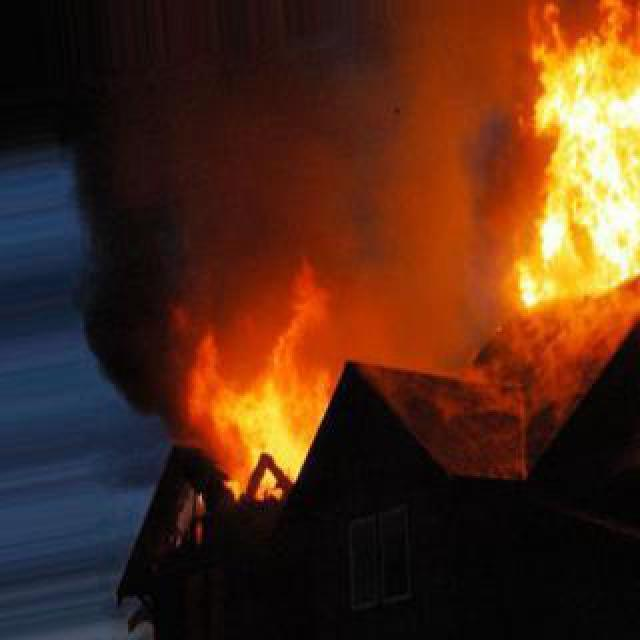Fire: (190, 246, 364, 508)
Smoke: (72, 20, 338, 408), (336, 6, 520, 368)
